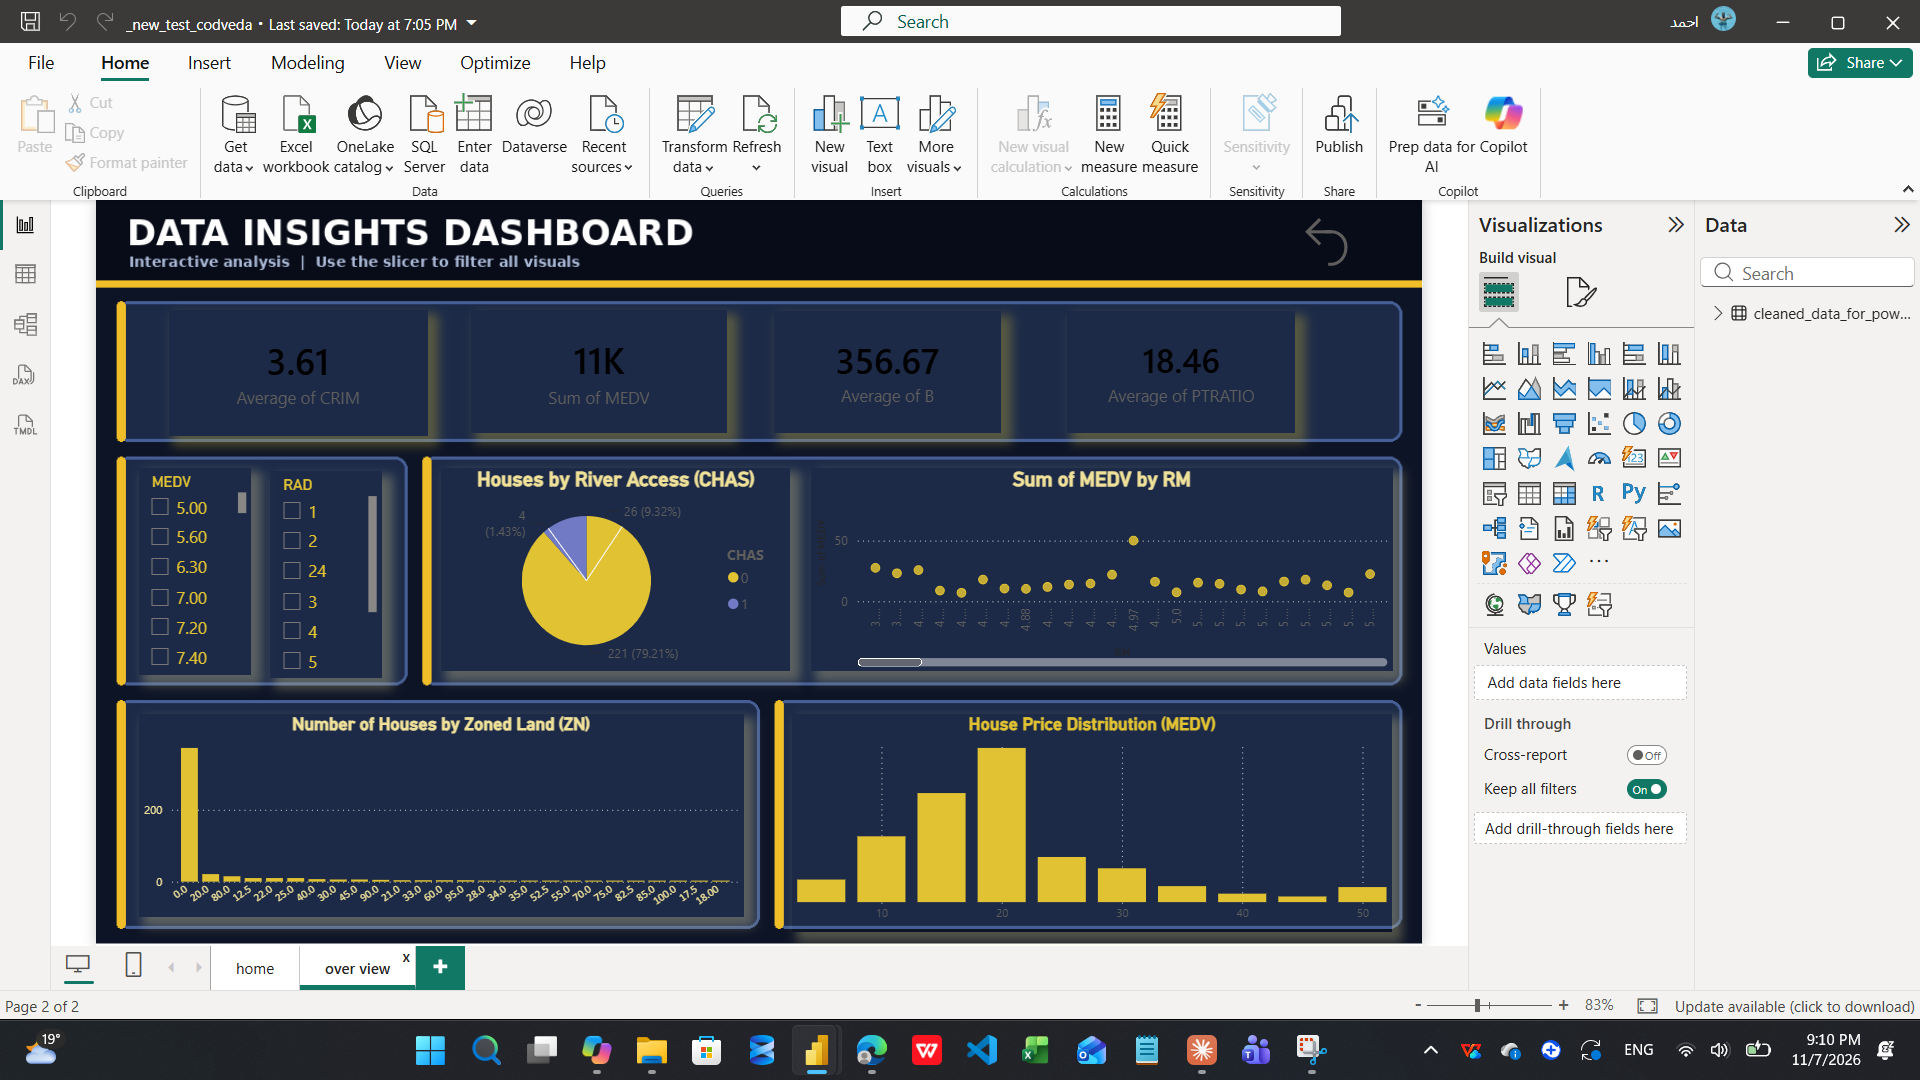

Layout of this report page (visuals, bound fields, positions):
{"tool":"powerbi","page":{"name":"over view","canvas":[1280,720],"ordinal":1},"visuals":[{"type":"clusteredColumnChart","title":"House Price Distribution (MEDV)","fields":{"Y":["CountNonNull(cleaned_data_for_powerbi.Column1)"],"Category":["cleaned_data_for_powerbi.MEDV (bins)"]},"box":[672.5,496.2,578.8,210],"z":0},{"type":"pieChart","title":"Houses by River Access (CHAS)","fields":{"Y":["Count(cleaned_data_for_powerbi.Column2)","Count(cleaned_data_for_powerbi.Column14)"],"Category":["cleaned_data_for_powerbi.Column4"]},"box":[332.9,258.6,337.1,197.1],"z":1000},{"type":"slicer","fields":{"Values":["cleaned_data_for_powerbi.Column14"]},"box":[41.2,258.8,108.8,200],"z":2000},{"type":"cardVisual","fields":{"Data":["Sum(cleaned_data_for_powerbi.Column14)"]},"box":[362.5,106.2,247.5,118.8],"z":3000},{"type":"cardVisual","fields":{"Data":["Avg(cleaned_data_for_powerbi.Column1)"]},"box":[70,105.7,250,121.4],"z":4000},{"type":"columnChart","title":"Number of Houses by Zoned Land (ZN)","fields":{"Category":["cleaned_data_for_powerbi.ZN"],"Y":["CountNonNull(cleaned_data_for_powerbi.CRIM)"]},"box":[41.2,496.2,583.8,196.2],"z":5000},{"type":"cardVisual","fields":{"Data":["Avg(cleaned_data_for_powerbi.Column12)"]},"box":[653.8,107.5,220,117.5],"z":6000},{"type":"cardVisual","fields":{"Data":["Avg(cleaned_data_for_powerbi.Column11)"]},"box":[937.5,107.5,220,117.5],"z":7000},{"type":"scatterChart","fields":{"X":["cleaned_data_for_powerbi.RM"],"Y":["Sum(cleaned_data_for_powerbi.MEDV)"]},"box":[690,258.6,561.4,197.1],"z":8000},{"type":"slicer","fields":{"Values":["cleaned_data_for_powerbi.RAD"]},"box":[167.1,261.4,108.6,200],"z":9000},{"type":"actionButton","box":[1157.7,11.3,121.1,59.2],"z":9501}]}

Visuals, with their boxes on the page's 1280x720 design canvas (x1, y1, x2, y2). These are canvas units, not pixel positions in the 1920x1080 screenshot, which may show the page scaled, cropped or inside an application window:
"House Price Distribution (MEDV)" clusteredColumnChart: x1=672, y1=496, x2=1251, y2=706
"Houses by River Access (CHAS)" pieChart: x1=333, y1=259, x2=670, y2=456
slicer - cleaned_data_for_powerbi.Column14: x1=41, y1=259, x2=150, y2=459
cardVisual - Sum(cleaned_data_for_powerbi.Column14): x1=362, y1=106, x2=610, y2=225
cardVisual - Avg(cleaned_data_for_powerbi.Column1): x1=70, y1=106, x2=320, y2=227
"Number of Houses by Zoned Land (ZN)" columnChart: x1=41, y1=496, x2=625, y2=692
cardVisual - Avg(cleaned_data_for_powerbi.Column12): x1=654, y1=108, x2=874, y2=225
cardVisual - Avg(cleaned_data_for_powerbi.Column11): x1=938, y1=108, x2=1158, y2=225
scatterChart - cleaned_data_for_powerbi.RM x Sum(cleaned_data_for_powerbi.MEDV): x1=690, y1=259, x2=1251, y2=456
slicer - cleaned_data_for_powerbi.RAD: x1=167, y1=261, x2=276, y2=461
actionButton: x1=1158, y1=11, x2=1279, y2=70
